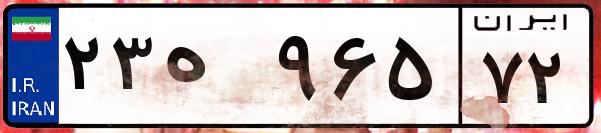2: (57, 26, 110, 100), (525, 38, 570, 115)
3: (110, 28, 158, 98)
5: (385, 28, 445, 110)
6: (330, 28, 385, 110)
7: (475, 38, 525, 113)
9: (270, 28, 330, 110)
ه: (158, 20, 270, 120)
